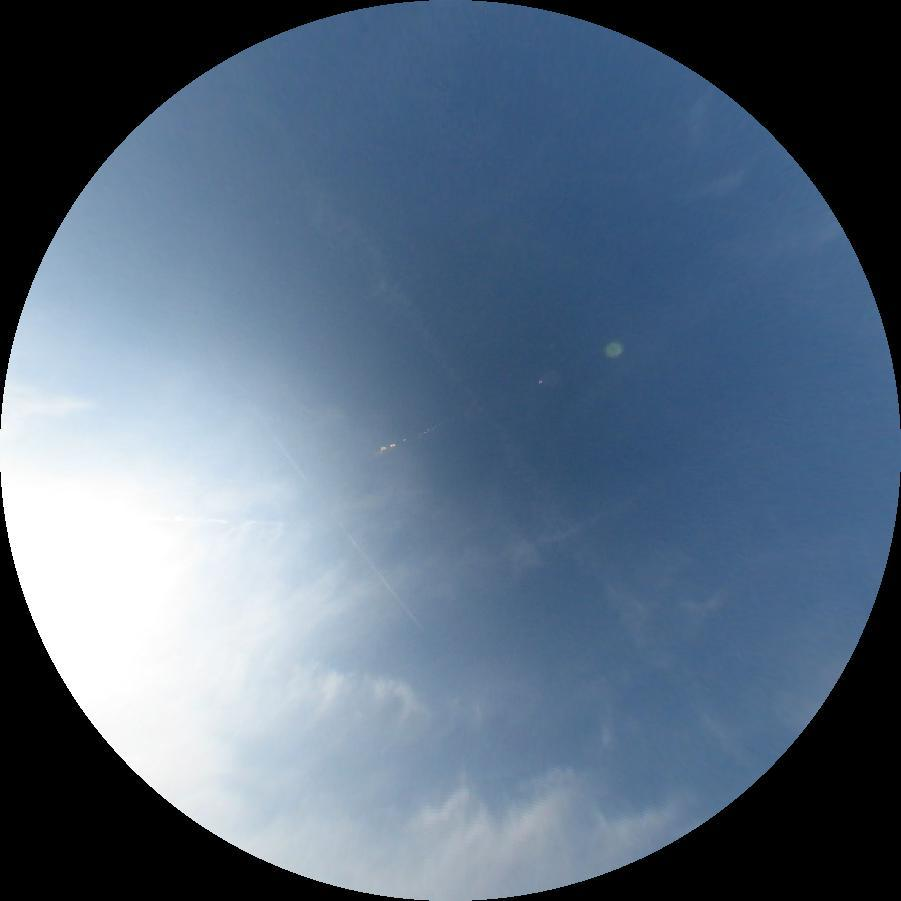contrail veryold: (266, 142, 761, 783)
contrail young: (251, 407, 422, 631)
parasite: (124, 513, 299, 528)
sun: (3, 475, 206, 673)
